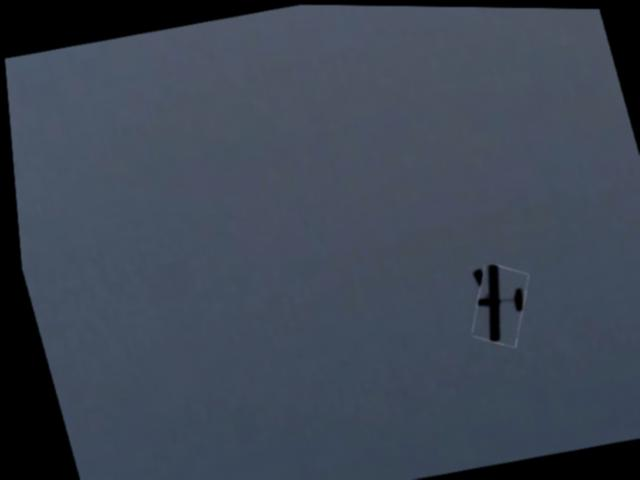insansiz-hava-araci: (456, 258, 535, 349)
